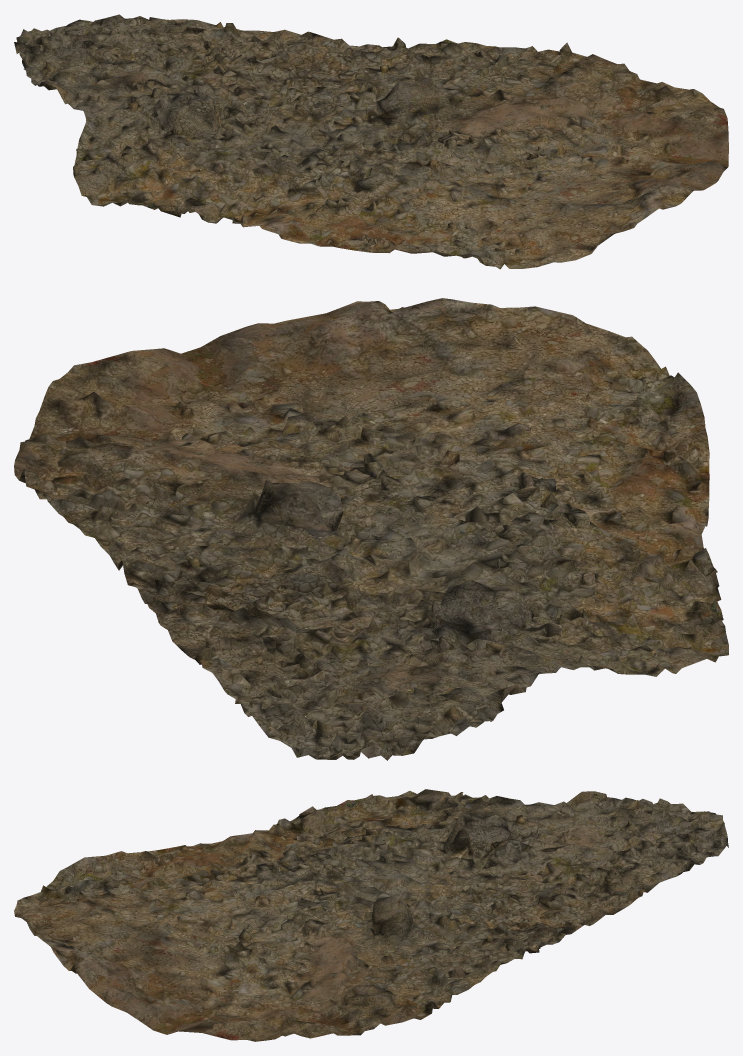
File: coast_land_rocks_04.glb
The picture shows the model from 3 angles, top to bottom: view 1: azimuth 30°, elevation 25°; view 2: azimuth 150°, elevation 25°; view 3: azimuth 270°, elevation 25°; orthographic projection. The views are drawn at different scales.
Parts seen in each view (by area): view 1: coast_land_rocks_04_LOD0; view 2: coast_land_rocks_04_LOD0; view 3: coast_land_rocks_04_LOD0.
Part boxes in pixels (box(x1,y1,x2,y2)): coast_land_rocks_04_LOD0: box(14, 14, 728, 269); coast_land_rocks_04_LOD0: box(14, 298, 728, 760); coast_land_rocks_04_LOD0: box(14, 789, 728, 1041).
Size of the model in its own units: 9.95 by 0.8251 by 11.5.
1 material, 1 textured.
